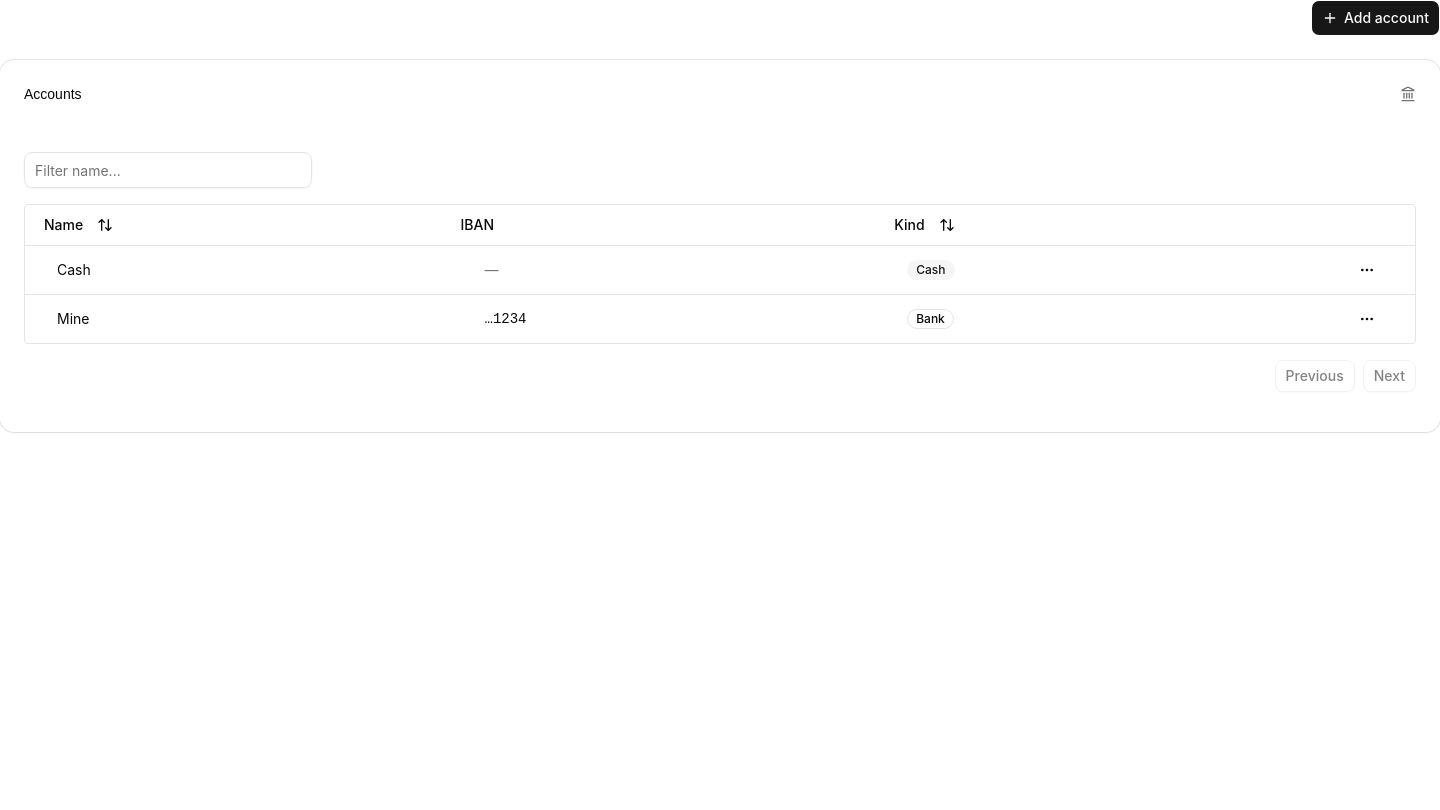
a personal space offers no visibility choice
The width and height of the screenshot is (1440, 810).
What coordinates should you click on to do the following:
click the button "Add account"
I would click on:
 (1376, 18)
Its box is x1=1311 y1=0 x2=1439 y2=36.
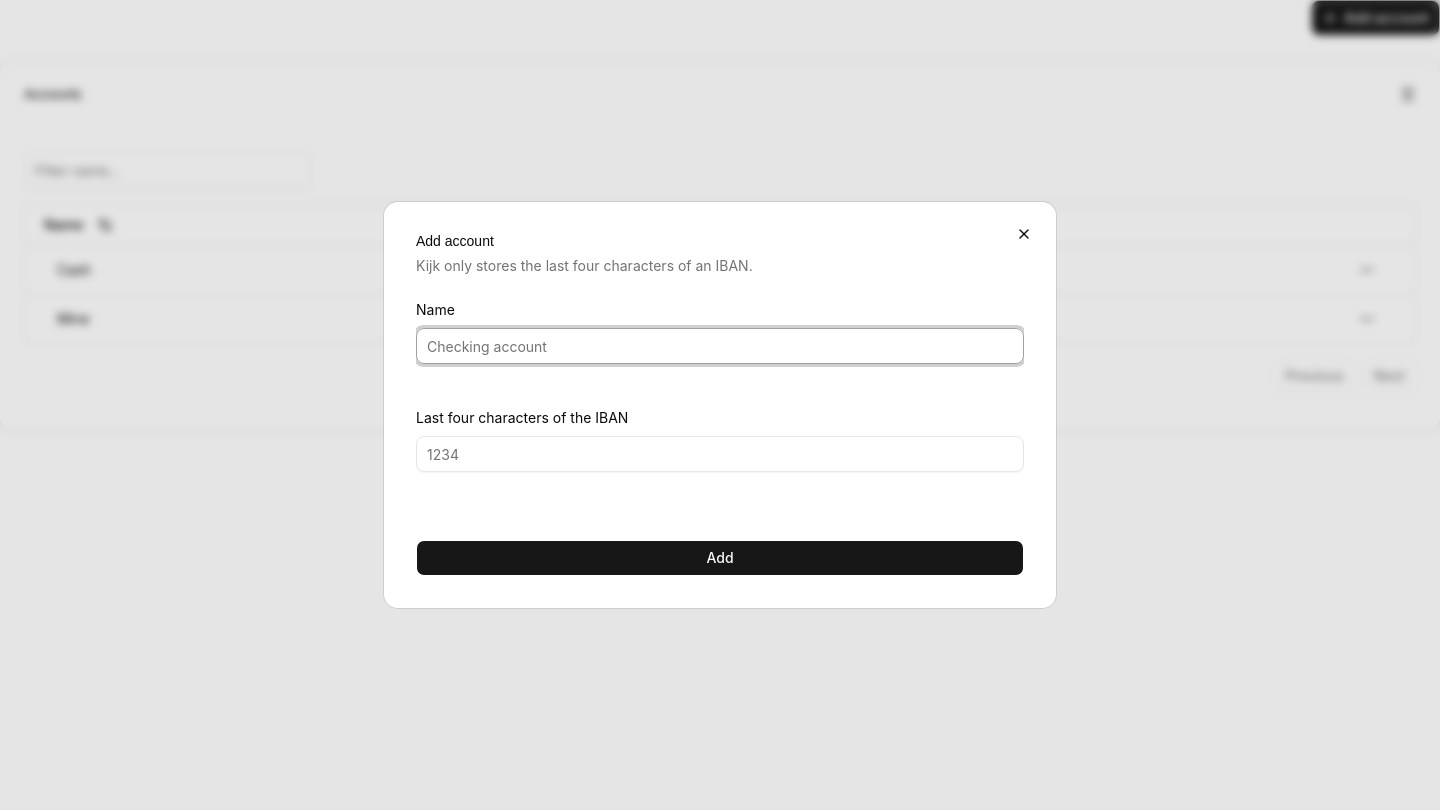
Expected: the field labelled "Name" is shown, x1=416 y1=328 x2=1024 y2=364
